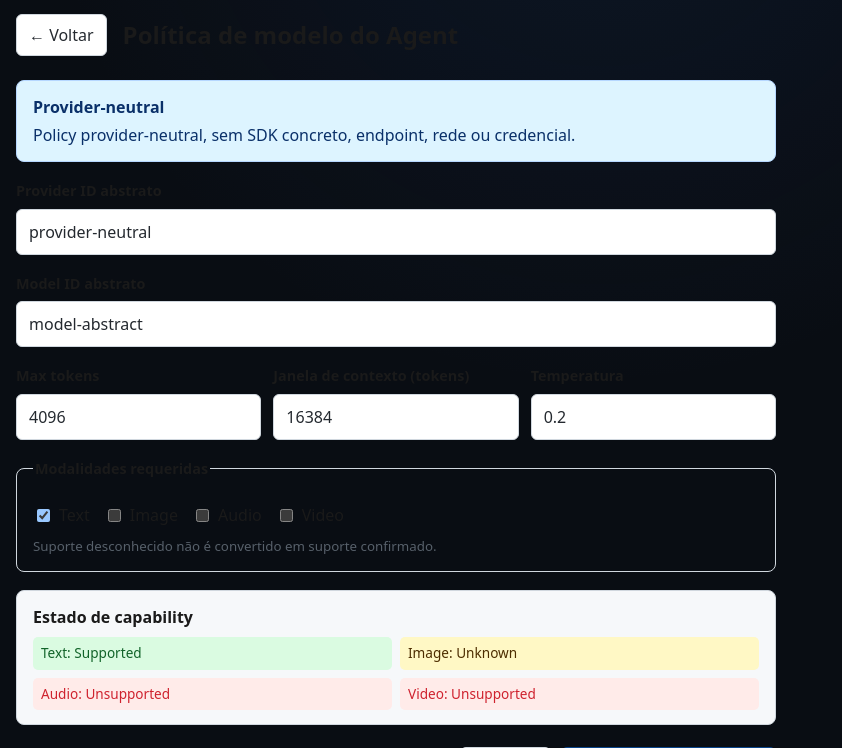
ModelPolicyPage › rejects endpoint-like provider identifiers
Replace the text in the field labelled "Provider ID abstrato" with "https://provider.invalid". click: (396, 232)
box: [16,209,776,255]
(page scrolled)
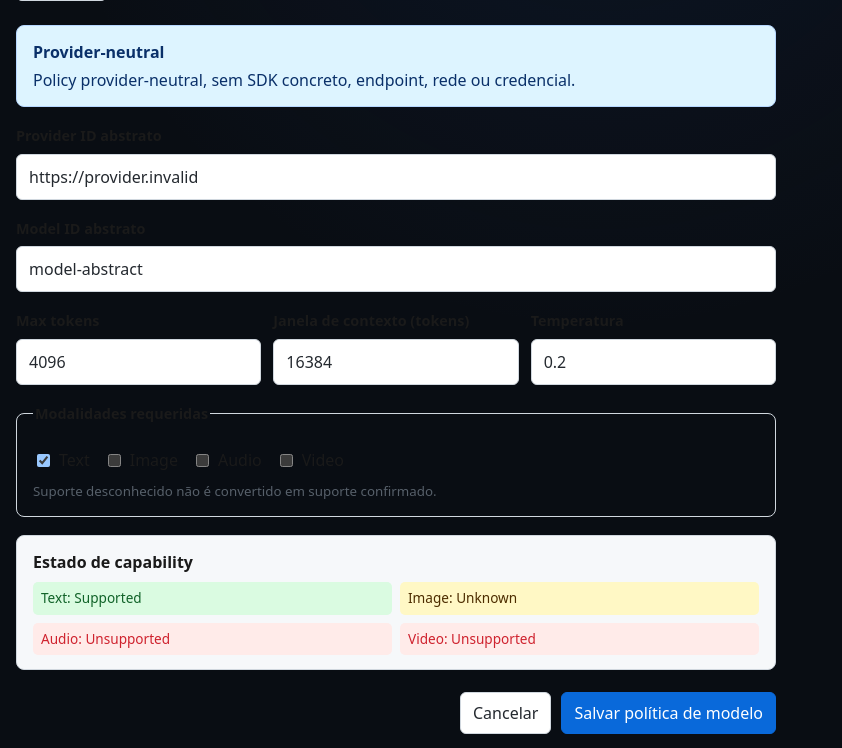
Click the button "Salvar política de modelo". click: (669, 713)
box: [561,692,776,734]
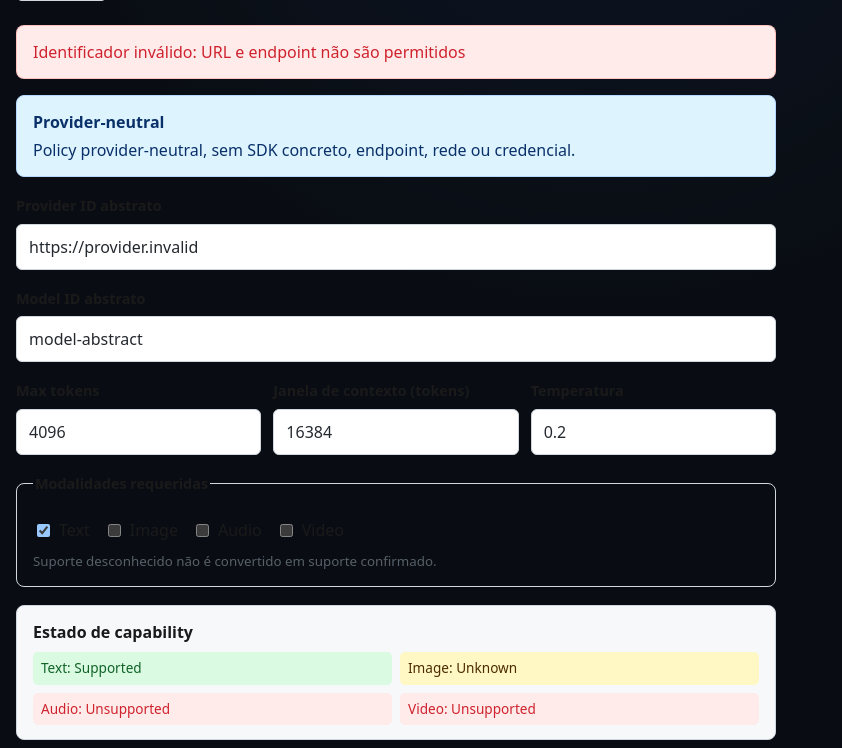
Now the message reads "Identificador inválido: URL e endpoint não são permitidos", box [33,41,465,63]
